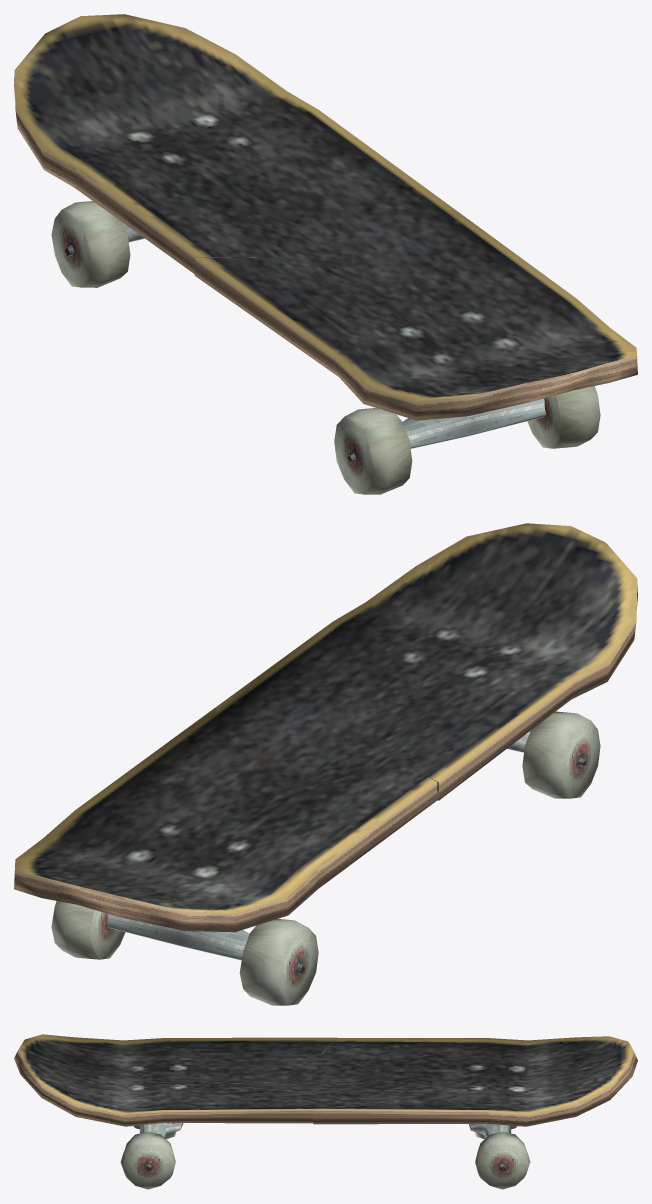
File: SkeletonSurf.fbx
3 renders of one model, top to bottom at view 1: azimuth 30°, elevation 25°; view 2: azimuth 150°, elevation 25°; view 3: azimuth 270°, elevation 25°, orthographic. The views are drawn at different scales.
Parts seen in each view (by area): view 1: Skin_Board_Ingame; view 2: Skin_Board_Ingame; view 3: Skin_Board_Ingame.
Part boxes in pixels (bbox=[...]): Skin_Board_Ingame: bbox=[14, 14, 637, 494]; Skin_Board_Ingame: bbox=[14, 523, 637, 1005]; Skin_Board_Ingame: bbox=[14, 1034, 637, 1189].
Bounding box in the file's own units: 1038 × 694 × 3662.
